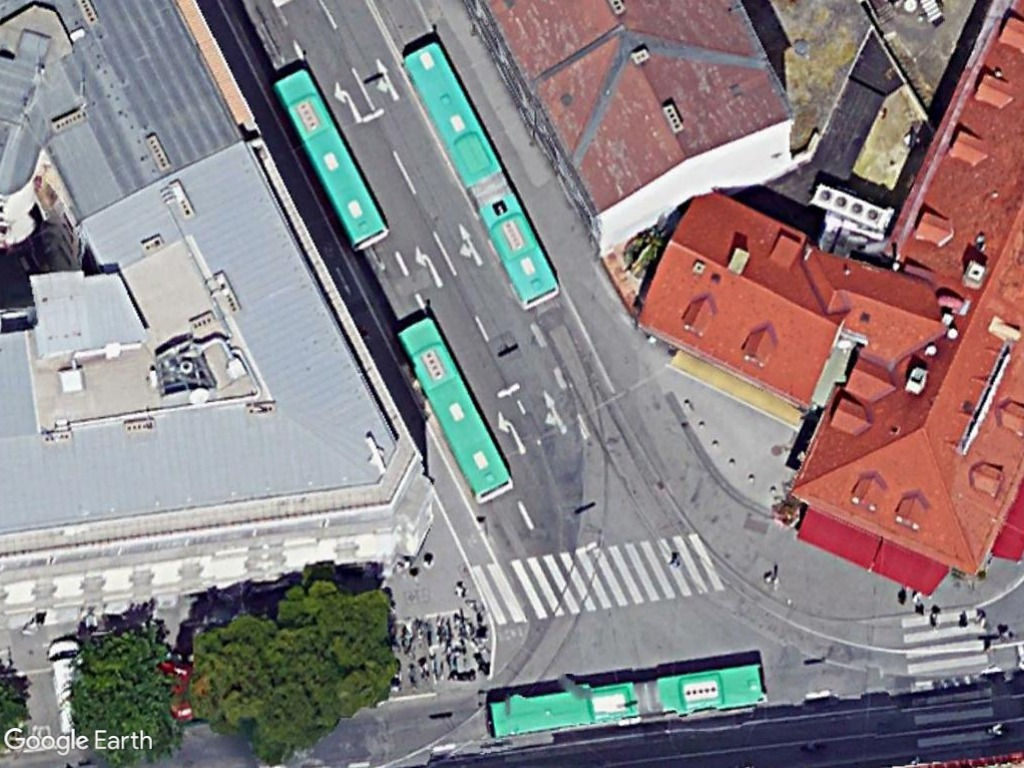bus: (395, 24, 562, 315), (484, 659, 777, 746), (390, 313, 515, 511), (271, 59, 392, 256)
